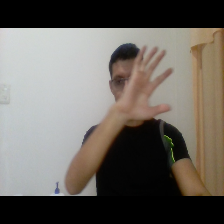left: (119, 42, 180, 125)
